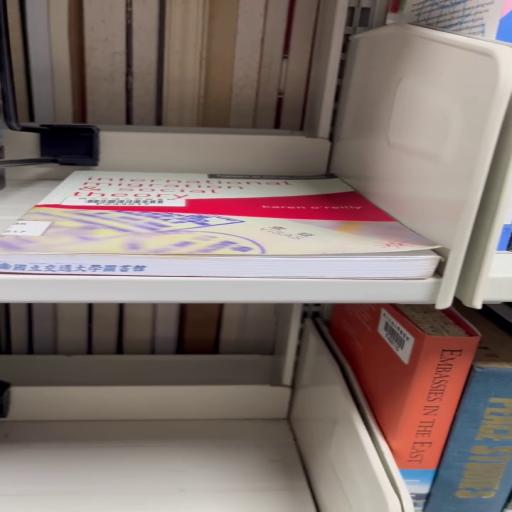flat: (1, 172, 440, 279)
